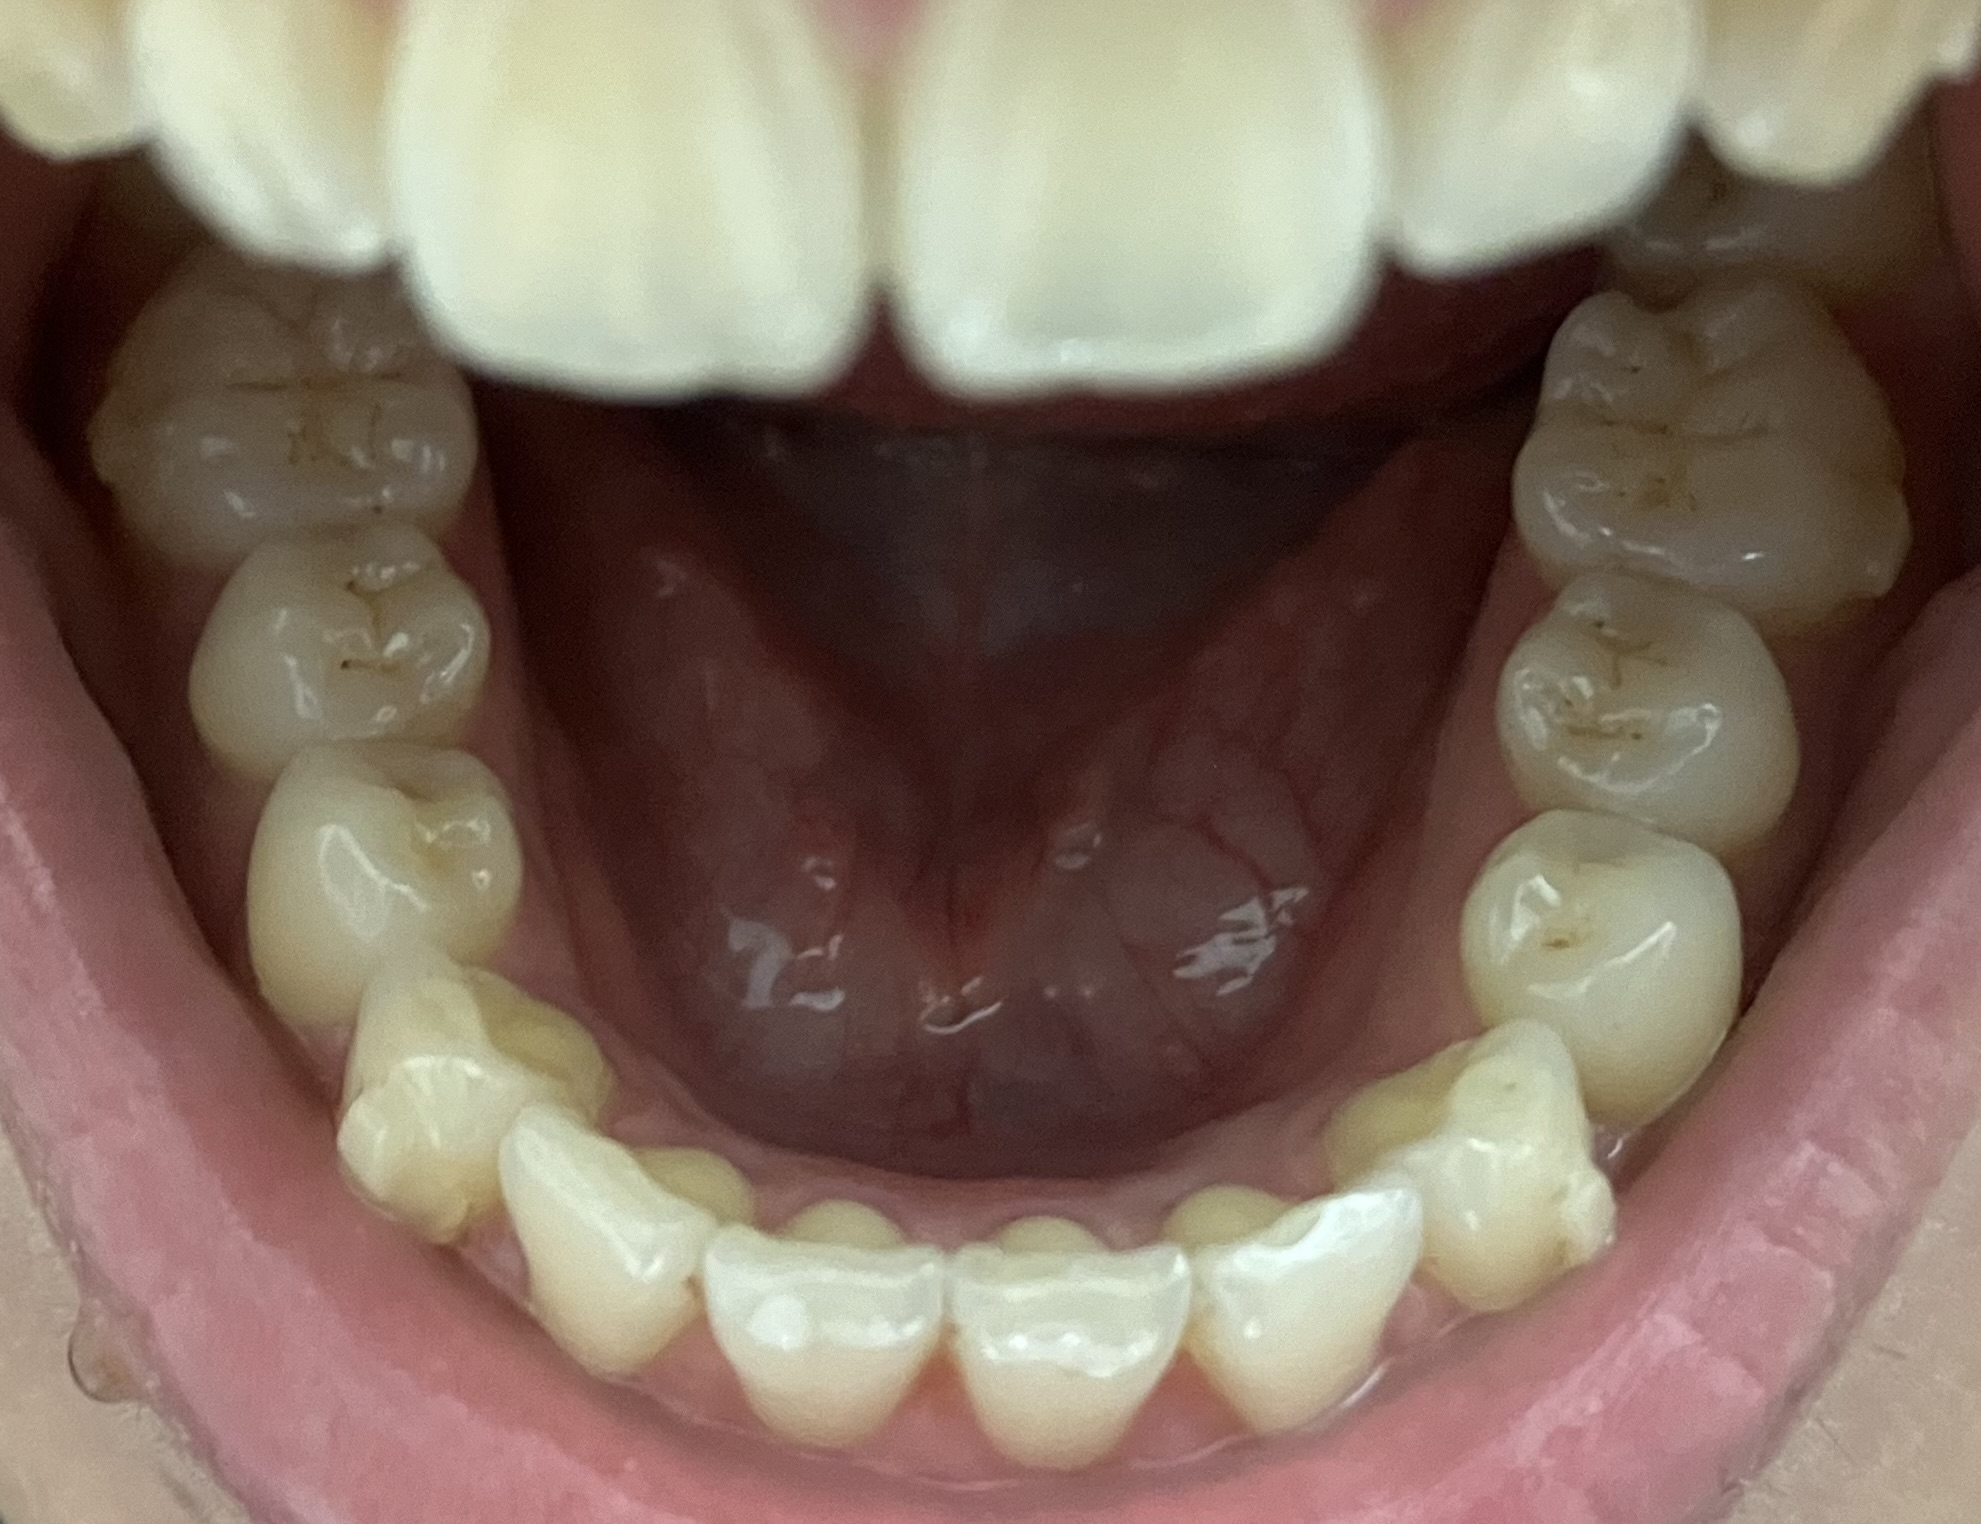teeth: (386, 0, 874, 389), (899, 8, 1392, 384), (1520, 275, 1901, 623), (122, 263, 469, 546), (1471, 808, 1741, 1125), (240, 728, 520, 1023), (1506, 570, 1803, 842), (1335, 1021, 1616, 1305), (341, 951, 613, 1237), (203, 525, 486, 770), (502, 1116, 746, 1372), (1171, 1185, 1415, 1428), (960, 1210, 1181, 1466), (702, 1193, 931, 1434)
